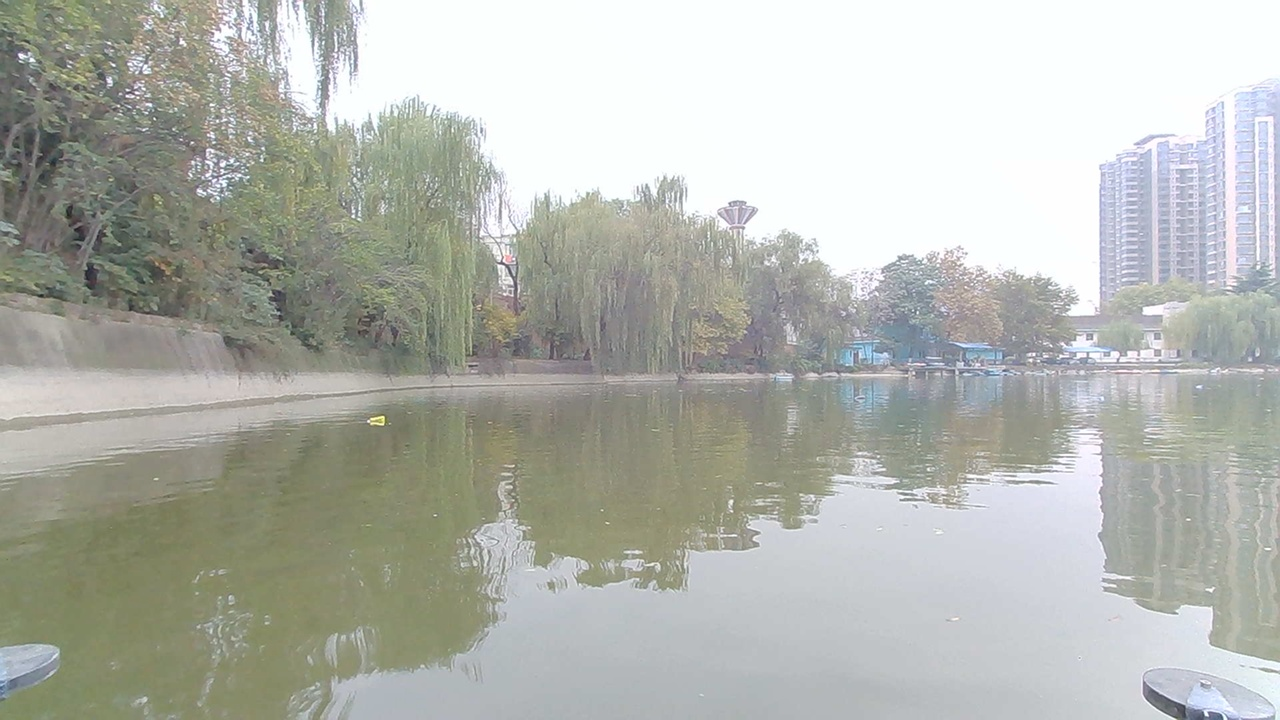bottle: (362, 411, 396, 434), (840, 389, 869, 404)
